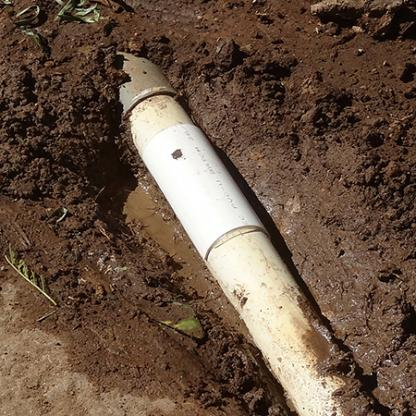PVC: (118, 49, 376, 415)
